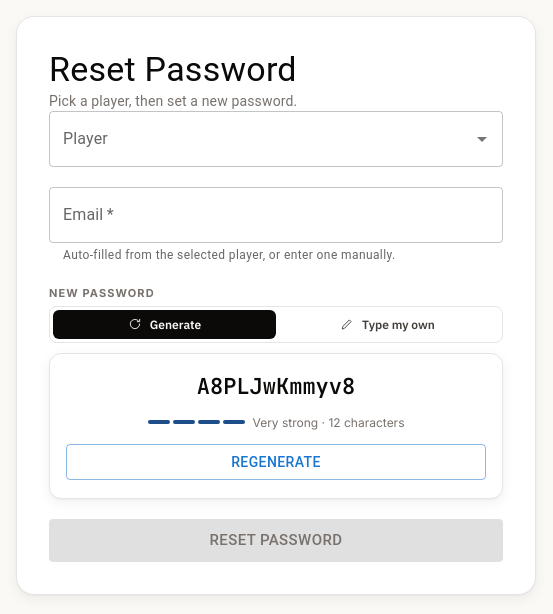
Test case: AdminResetPasswordPage › switches to a typed password field in "Type my own" mode
Click the button "Type my own". click: (388, 324)
box: [276,310,499,339]
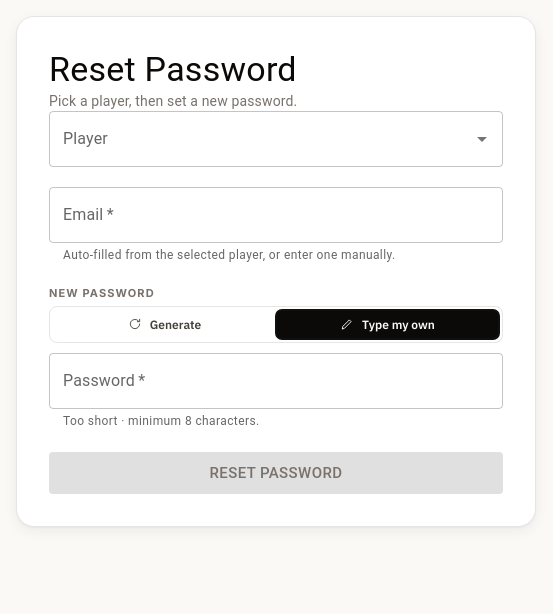
Now the field labelled "Password *" is shown, box [49,353,503,409]
Now the button "Regenerate" is gone
